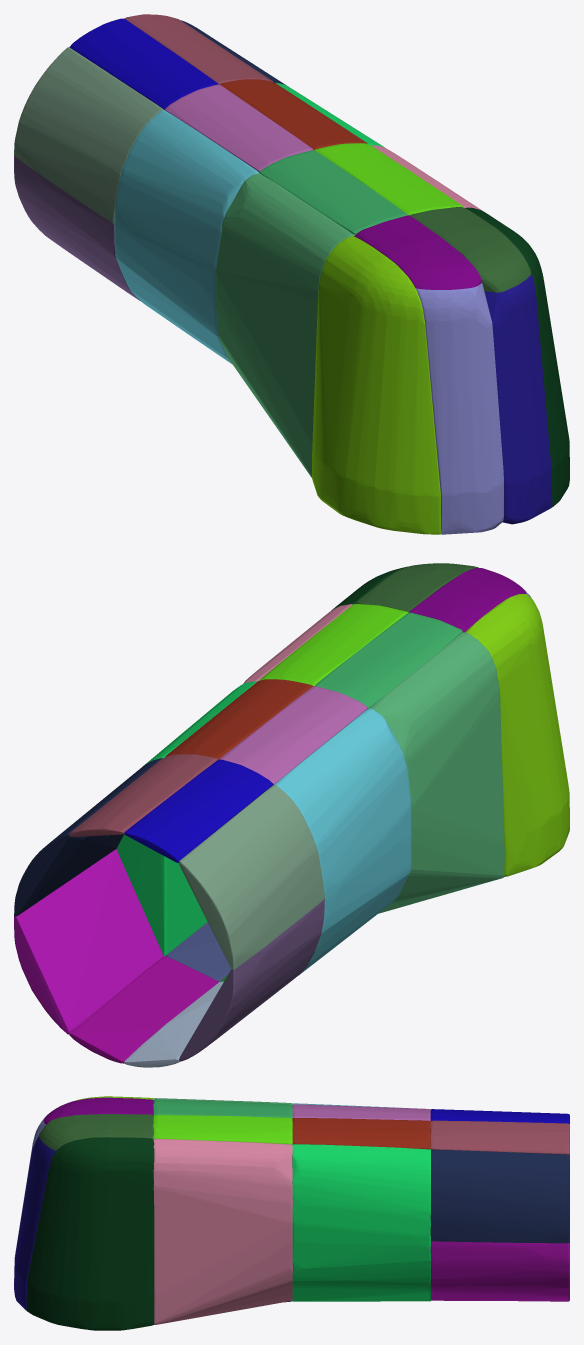
The model's file is arm-L3_split.obj.
3 views of the same model, one above another, from view 1: azimuth 30°, elevation 25°; view 2: azimuth 150°, elevation 25°; view 3: azimuth 270°, elevation 25° (orthographic). The views are drawn at different scales.
Parts seen in each view (by area): view 1: geometry_4, geometry_3, geometry_2, geometry_12, geometry_0, geometry_20, geometry_5, geometry_1, geometry_7, geometry_10, geometry_11, geometry_19 (+6 smaller); view 2: geometry_3, geometry_2, geometry_4, geometry_22, geometry_0, geometry_14, geometry_5, geometry_1, geometry_7, geometry_23, geometry_10, geometry_17 (+8 smaller); view 3: geometry_24, geometry_25, geometry_23, geometry_21, geometry_22, geometry_13, geometry_15, geometry_17, geometry_20, geometry_19, geometry_10, geometry_7 (+2 smaller).
Boxes of the visible parts, x1,y1,x2,y2 form: geometry_4: (312, 236, 441, 534); geometry_3: (215, 173, 354, 477); geometry_2: (114, 110, 258, 364); geometry_12: (415, 283, 503, 534); geometry_0: (14, 47, 163, 223); geometry_20: (484, 273, 552, 524); geometry_5: (69, 18, 218, 109); geometry_1: (14, 155, 139, 300); geometry_7: (164, 84, 313, 171); geometry_10: (258, 150, 407, 234); geometry_11: (354, 215, 481, 289); geometry_19: (410, 207, 530, 292); geometry_3: (370, 632, 504, 913); geometry_2: (274, 708, 411, 975); geometry_4: (465, 594, 569, 876); geometry_22: (14, 849, 163, 1034); geometry_0: (179, 785, 324, 969); geometry_14: (69, 956, 218, 1063); geometry_5: (124, 759, 273, 862); geometry_1: (179, 899, 324, 1061); geometry_7: (220, 686, 367, 784); geometry_23: (116, 681, 257, 956); geometry_10: (314, 612, 462, 708); geometry_17: (259, 604, 408, 685); geometry_24: (153, 1139, 292, 1324); geometry_25: (26, 1137, 154, 1330); geometry_23: (292, 1144, 430, 1301); geometry_21: (430, 1149, 569, 1243); geometry_22: (430, 1241, 569, 1300); geometry_13: (430, 1120, 569, 1154); geometry_15: (292, 1118, 430, 1149); geometry_17: (153, 1115, 292, 1144); geometry_20: (14, 1136, 55, 1310); geometry_19: (38, 1114, 153, 1150); geometry_10: (153, 1099, 292, 1118); geometry_7: (292, 1104, 430, 1120).
Size of the model in its own units: 0.0749 by 0.0793 by 0.2227.
